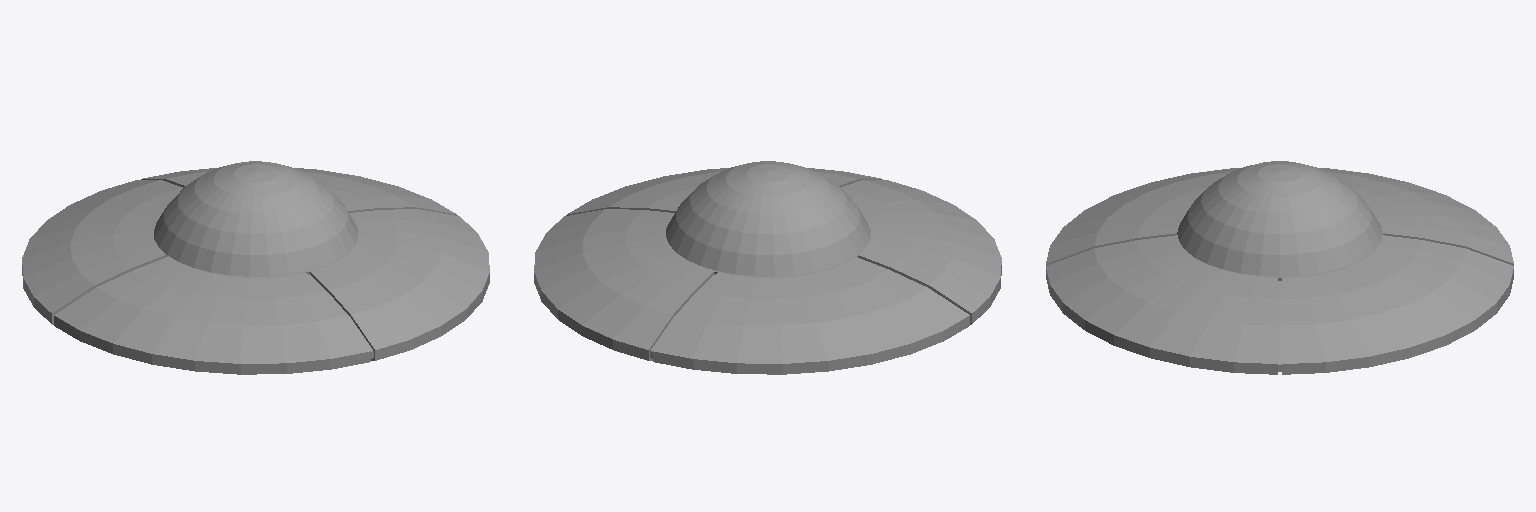
File: ufo.obj
The picture shows the model from 3 angles: view 1: azimuth 30°, elevation 25°; view 2: azimuth 150°, elevation 25°; view 3: azimuth 270°, elevation 25°; orthographic projection.
Visible parts, largest first — view 1: UFO_body, UFO_cockpit; view 2: UFO_body, UFO_cockpit; view 3: UFO_body, UFO_cockpit.
Boxes of the visible parts, x1=… form: UFO_body: x1=22, y1=167, x2=489, y2=374; UFO_cockpit: x1=154, y1=161, x2=357, y2=276; UFO_body: x1=534, y1=168, x2=1001, y2=374; UFO_cockpit: x1=666, y1=161, x2=870, y2=276; UFO_body: x1=1046, y1=168, x2=1513, y2=374; UFO_cockpit: x1=1177, y1=161, x2=1381, y2=276.
Bounding box in the file's own units: 1.85 × 0.7368 × 1.85.